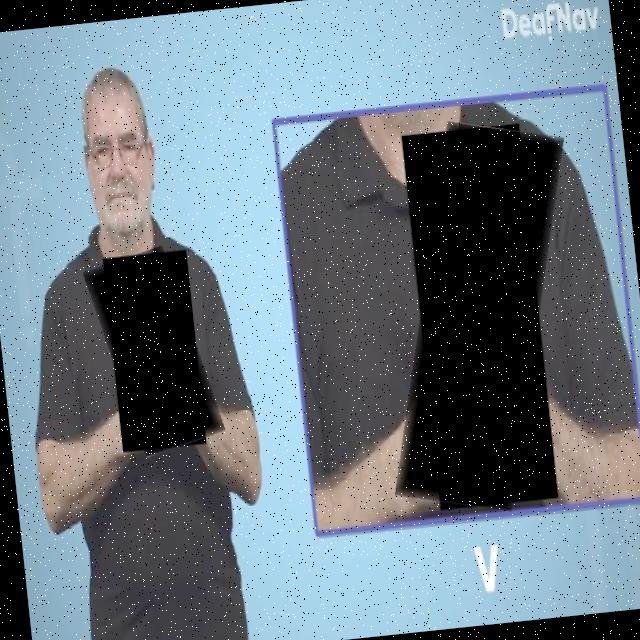V: (380, 117, 581, 518), (93, 246, 218, 459)
